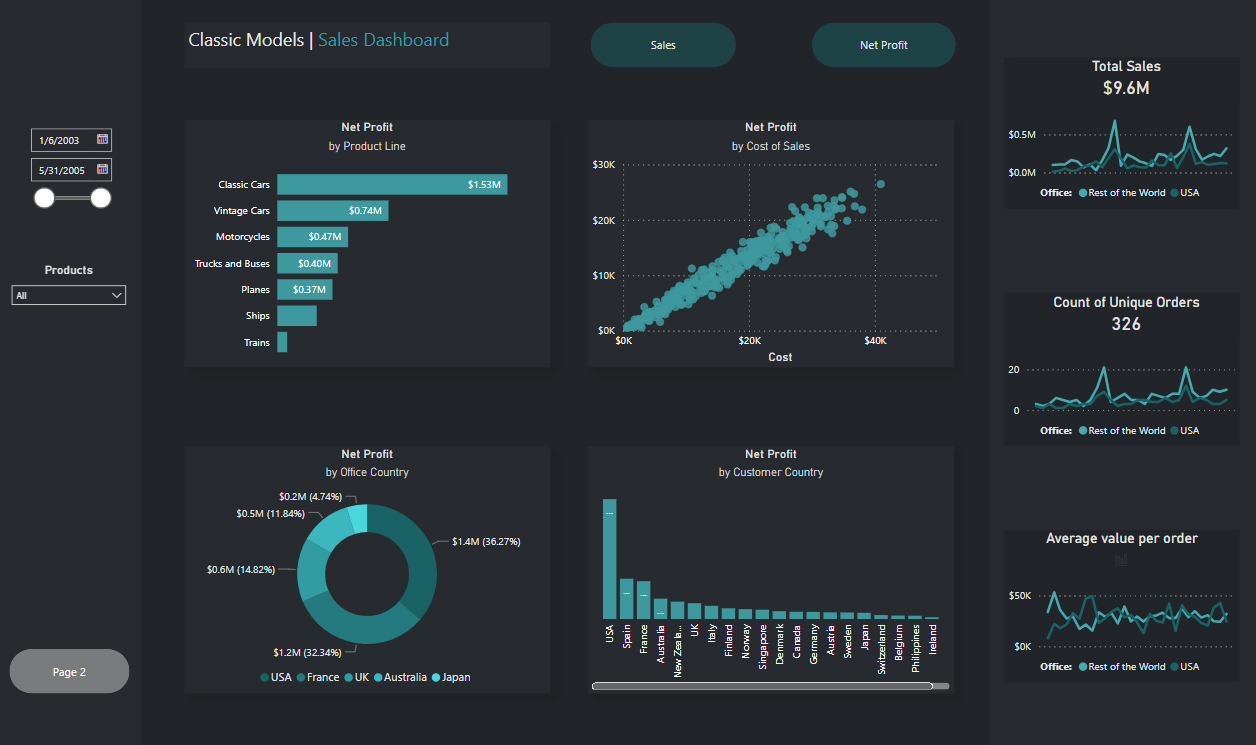

Layout of this report page (visuals, bound fields, positions):
{"tool":"powerbi","page":{"name":"Sales Overview - Page 1","canvas":[1500,900],"ordinal":0},"visuals":[{"type":"shape","box":[0,0,170,900.5],"z":0},{"type":"shape","box":[1180.3,0,320,900.5],"z":1000},{"type":"shape","box":[1198,74,279.8,180.1],"z":2000},{"type":"shape","box":[1198,636.8,279.8,180.1],"z":3000},{"type":"shape","box":[1198,354.6,279.8,181.7],"z":4000},{"type":"card","title":"Total Sales","fields":{"Values":["Sum(classicmodels sales_report_for_power_bi.sales_value)"]},"box":[1207.7,74,270.2,51.5],"z":5000},{"type":"card","title":"Count of Unique Orders","fields":{"Values":["Count(classicmodels sales_report_for_power_bi.orderNumber)"]},"box":[1207.7,355.4,270.2,51.5],"z":6000},{"type":"lineChart","title":"Average value per order","fields":{"Y":["classicmodels sales_report_for_power_bi.Average sales value per order"]},"box":[1207.7,636.8,270.2,51.5],"z":7000},{"type":"lineChart","fields":{"Y":["Sum(classicmodels sales_report_for_power_bi.sales_value)"],"Category":["classicmodels sales_report_for_power_bi.orderDate.Variation.Date Hierarchy.Year","classicmodels sales_report_for_power_bi.orderDate.Variation.Date Hierarchy.Quarter","classicmodels sales_report_for_power_bi.orderDate.Variation.Date Hierarchy.Month"],"Series":["classicmodels sales_report_for_power_bi.Office grouped"]},"box":[1198,125.4,279.8,128.6],"z":8000},{"type":"lineChart","fields":{"Category":["classicmodels sales_report_for_power_bi.orderDate.Variation.Date Hierarchy.Year","classicmodels sales_report_for_power_bi.orderDate.Variation.Date Hierarchy.Quarter","classicmodels sales_report_for_power_bi.orderDate.Variation.Date Hierarchy.Month"],"Series":["classicmodels sales_report_for_power_bi.Office grouped"],"Y":["Count(classicmodels sales_report_for_power_bi.orderNumber)"]},"box":[1198,408.4,279.8,128.6],"z":9000},{"type":"lineChart","fields":{"Category":["classicmodels sales_report_for_power_bi.orderDate.Variation.Date Hierarchy.Year","classicmodels sales_report_for_power_bi.orderDate.Variation.Date Hierarchy.Quarter","classicmodels sales_report_for_power_bi.orderDate.Variation.Date Hierarchy.Month"],"Series":["classicmodels sales_report_for_power_bi.Office grouped"],"Y":["classicmodels sales_report_for_power_bi.Average sales value per order"]},"box":[1198,688.3,279.8,128.6],"z":10000},{"type":"clusteredBarChart","fields":{"Y":["Table.Selected Metric"],"Category":["classicmodels sales_report_for_power_bi.productLine"]},"box":[222.5,148.1,435.8,294.3],"z":11000},{"type":"actionButton","title":"Sales","box":[705,33.3,173.3,53.3],"z":12000},{"type":"actionButton","title":"Net Profit","box":[968.3,33.3,171.7,53.3],"z":13000},{"type":"donutChart","fields":{"Y":["Table.Selected Metric"],"Category":["classicmodels sales_report_for_power_bi.office_country"]},"box":[222.5,537.2,435.8,294.3],"z":15000},{"type":"scatterChart","fields":{"Y":["Table.Selected Metric"],"X":["Sum(classicmodels sales_report_for_power_bi.cost_of_sales)"],"Category":["classicmodels sales_report_for_power_bi.orderNumber"]},"box":[701.7,148.1,435.8,294.3],"z":16000},{"type":"columnChart","fields":{"Y":["Table.Selected Metric"],"Category":["classicmodels sales_report_for_power_bi.customer_country"]},"box":[701.7,537.2,435.8,294.3],"z":17000},{"type":"textbox","box":[221.7,33.3,435,53.3],"z":18000},{"type":"actionButton","title":"Sales","box":[13.3,778.3,143.3,53.3],"z":19000},{"type":"slicer","fields":{"Values":["classicmodels sales_report_for_power_bi.orderDate"]},"box":[26.7,148.3,116.7,115],"z":20000},{"type":"slicer","title":"Products","fields":{"Values":["classicmodels sales_report_for_power_bi.productName"]},"box":[6.7,318.3,156.7,63.3],"z":21000}]}

Visuals, with their boxes in screenshot pixels (x1, y1, x2, y2), scaled from the page's 1500x900 canvas onto the 1256x745 screenshot:
shape: <region>0, 0, 142, 744</region>
shape: <region>988, 0, 1255, 744</region>
shape: <region>1003, 61, 1237, 210</region>
shape: <region>1003, 527, 1237, 676</region>
shape: <region>1003, 294, 1237, 444</region>
"Total Sales" card: <region>1011, 61, 1237, 104</region>
"Count of Unique Orders" card: <region>1011, 294, 1237, 337</region>
"Average value per order" lineChart: <region>1011, 527, 1237, 570</region>
lineChart - Sum(classicmodels sales_report_for_power_bi.sales_value) x classicmodels sales_report_for_power_bi.orderDate.Variation.Date Hierarchy.Year: <region>1003, 104, 1237, 210</region>
lineChart - classicmodels sales_report_for_power_bi.orderDate.Variation.Date Hierarchy.Year x classicmodels sales_report_for_power_bi.orderDate.Variation.Date Hierarchy.Quarter: <region>1003, 338, 1237, 445</region>
lineChart - classicmodels sales_report_for_power_bi.orderDate.Variation.Date Hierarchy.Year x classicmodels sales_report_for_power_bi.orderDate.Variation.Date Hierarchy.Quarter: <region>1003, 570, 1237, 676</region>
clusteredBarChart - Table.Selected Metric x classicmodels sales_report_for_power_bi.productLine: <region>186, 123, 551, 366</region>
"Sales" actionButton: <region>590, 28, 735, 72</region>
"Net Profit" actionButton: <region>811, 28, 955, 72</region>
donutChart - Table.Selected Metric x classicmodels sales_report_for_power_bi.office_country: <region>186, 445, 551, 688</region>
scatterChart - Table.Selected Metric x Sum(classicmodels sales_report_for_power_bi.cost_of_sales): <region>588, 123, 952, 366</region>
columnChart - Table.Selected Metric x classicmodels sales_report_for_power_bi.customer_country: <region>588, 445, 952, 688</region>
textbox: <region>186, 28, 550, 72</region>
"Sales" actionButton: <region>11, 644, 131, 688</region>
slicer - classicmodels sales_report_for_power_bi.orderDate: <region>22, 123, 120, 218</region>
"Products" slicer: <region>6, 263, 137, 316</region>
